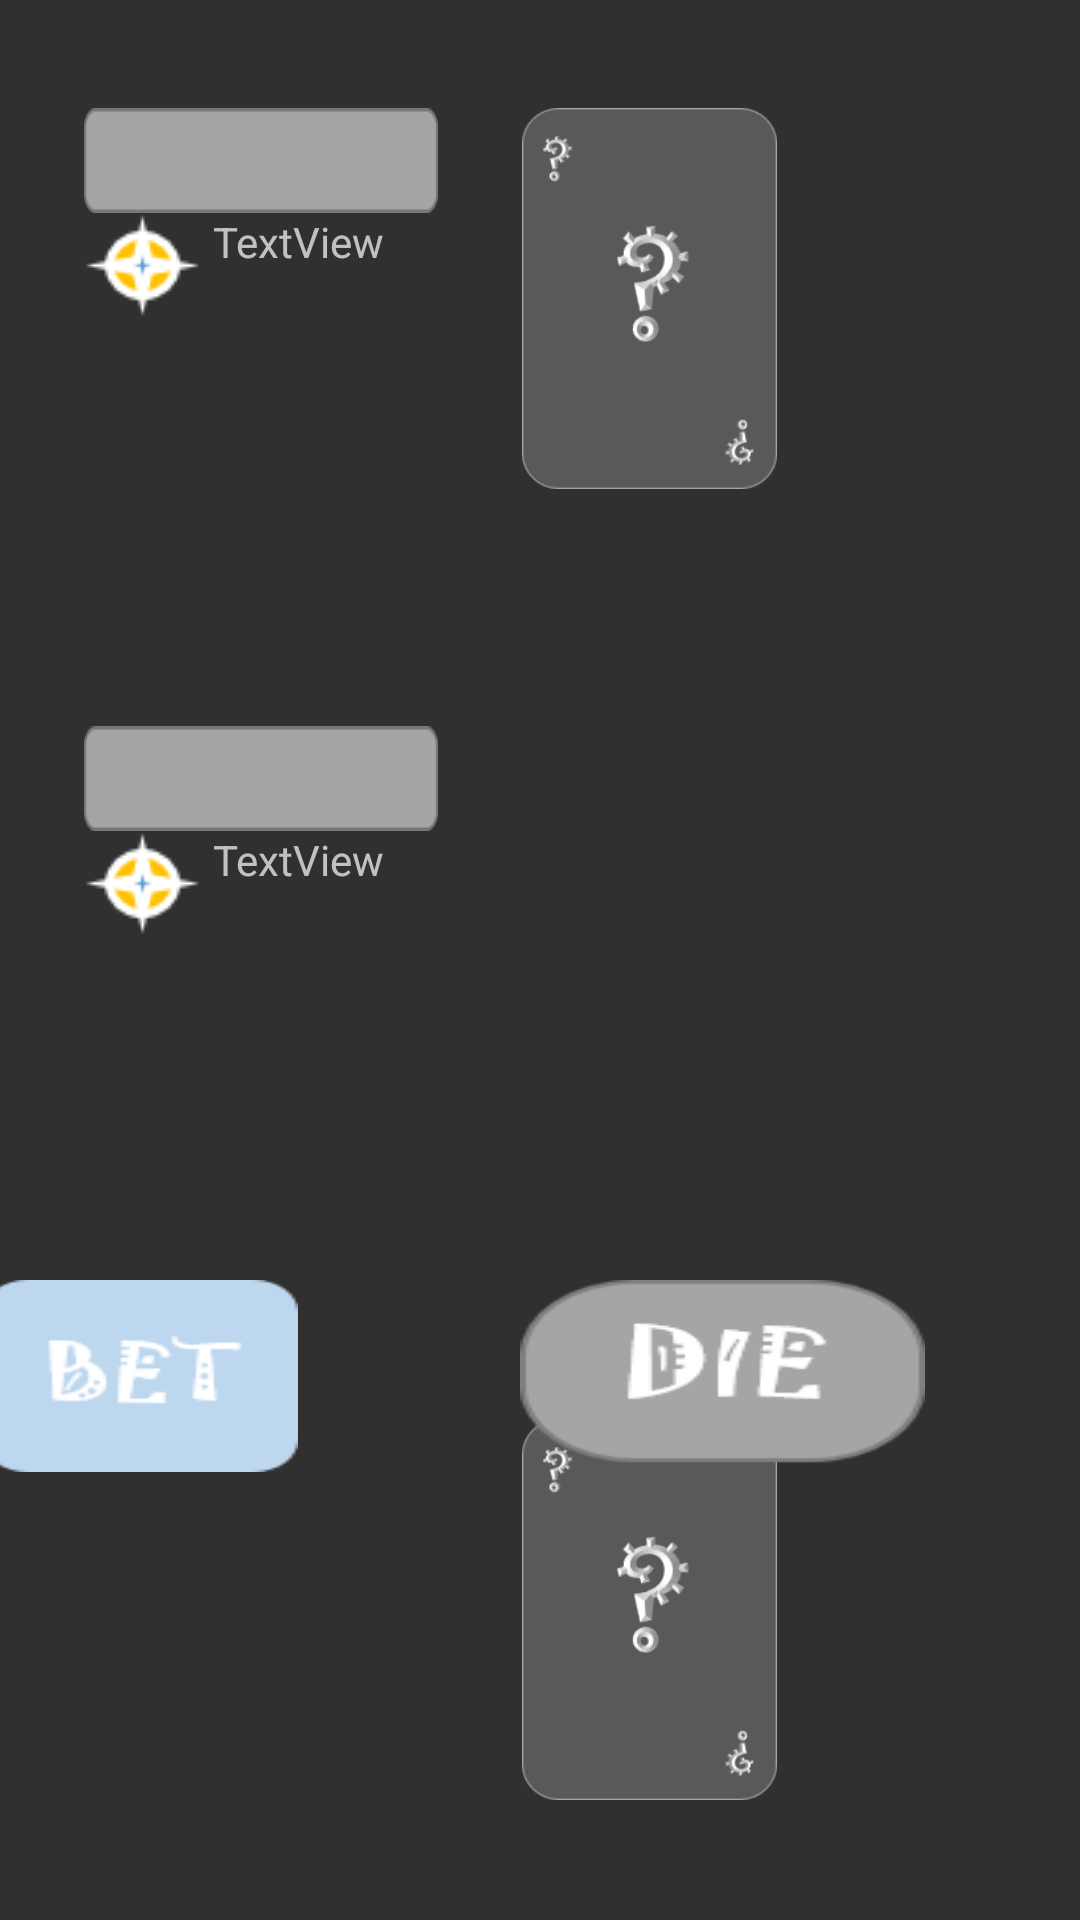

Icons on this 1080 × 1920 Android screen, each with the point to tap as (x=x, y=y):
coin: (x=142, y=265), (x=142, y=883)
